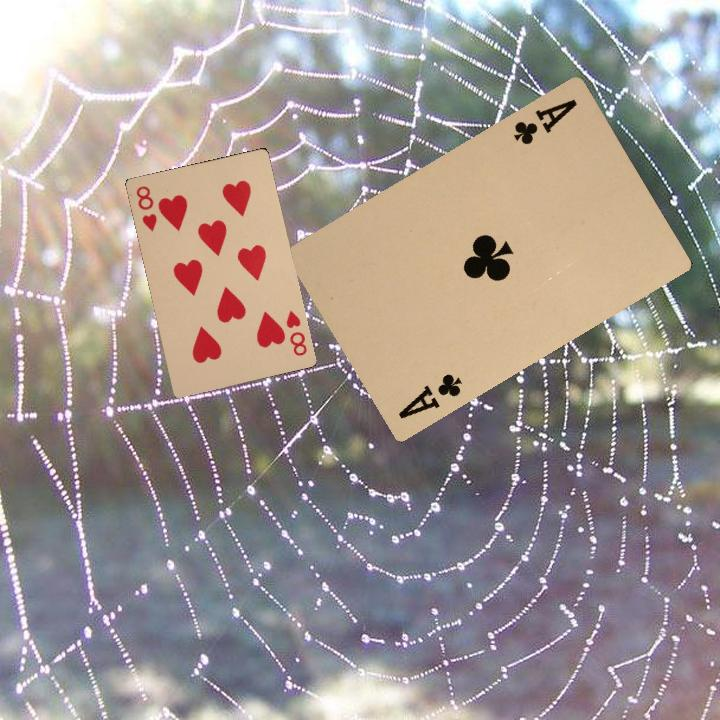8h: (132, 182, 159, 234), (282, 307, 309, 359)
Ac: (509, 95, 580, 148), (394, 369, 464, 422)
